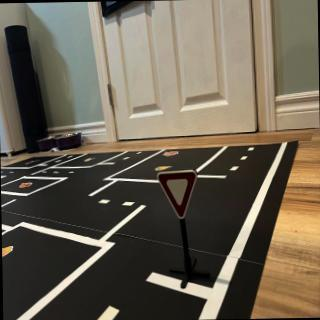sign_yield: (158, 170, 198, 221)
